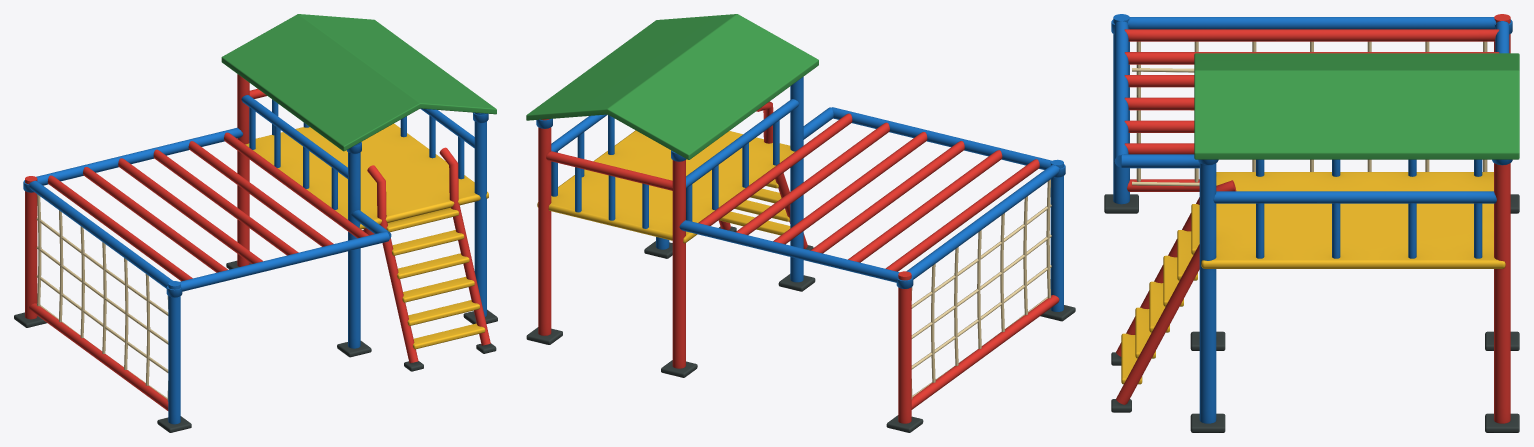
File: jungle-gym.fbx
The picture shows the model from 3 angles, left to right: view 1: azimuth 30°, elevation 25°; view 2: azimuth 150°, elevation 25°; view 3: azimuth 270°, elevation 25°; orthographic projection. The views are drawn at different scales.
Visible parts, largest first — view 1: jungle-gym; view 2: jungle-gym; view 3: jungle-gym.
Part boxes in pixels (x1,y1,x2,y2): jungle-gym: (14,14,497,432); jungle-gym: (526,14,1075,432); jungle-gym: (1104,14,1519,432).
Bounding box in the file's own units: 80000 × 49966 × 60000.
1 material, 1 textured.
